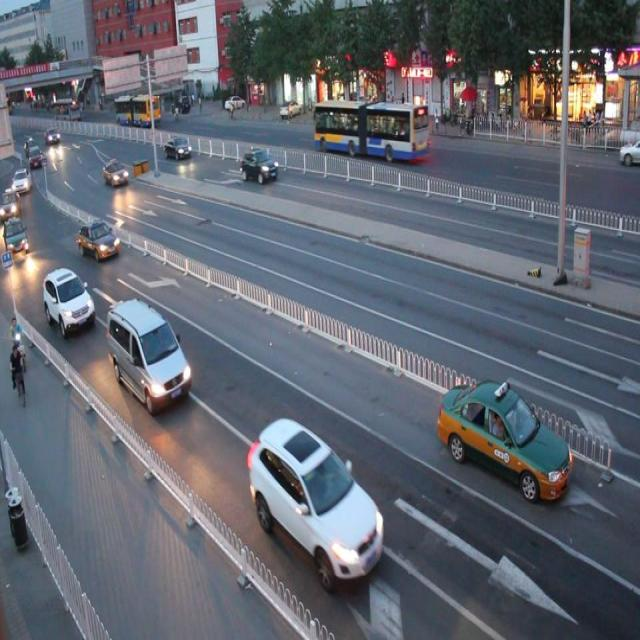car: (246, 418, 384, 581), (436, 378, 571, 499), (105, 297, 192, 412), (43, 267, 95, 336), (78, 219, 120, 260), (240, 147, 277, 185), (165, 135, 191, 158)
van: (313, 99, 430, 161)
